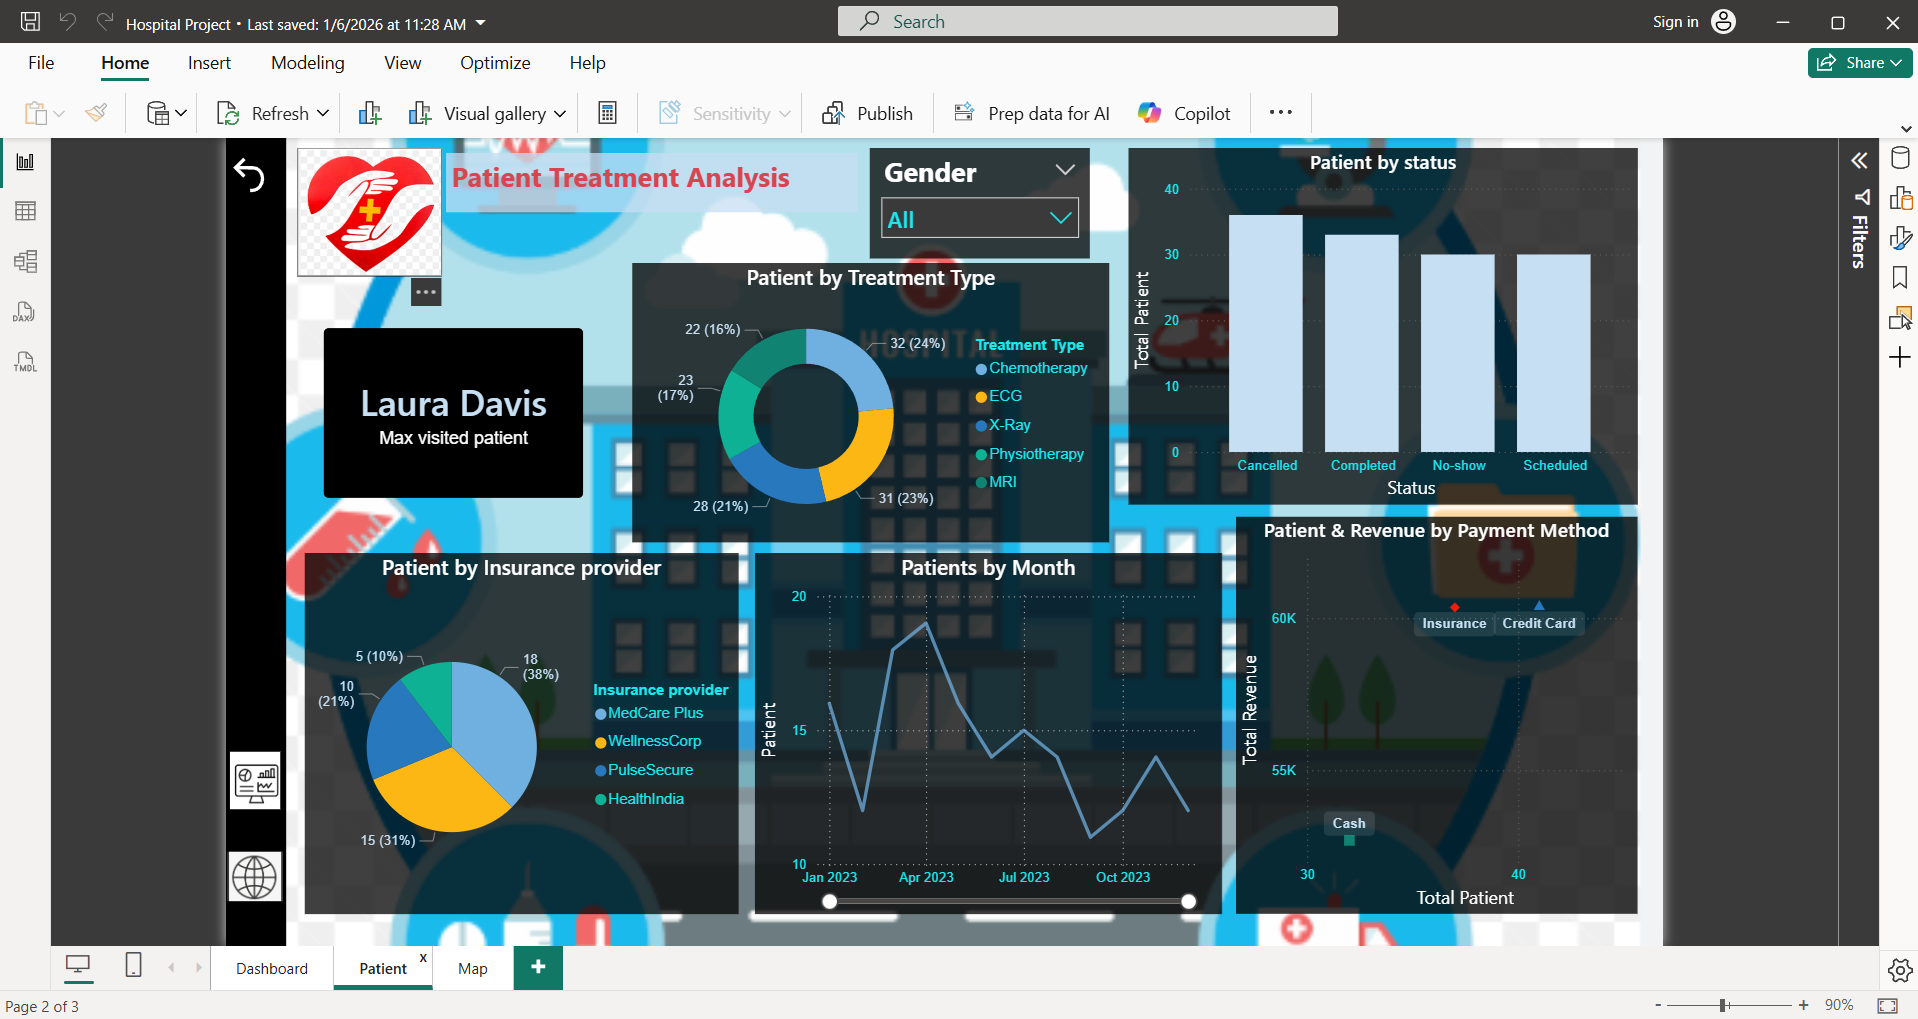

This screenshot's page, from the dashboard's own definition file:
{"tool":"powerbi","page":{"name":"Patient","canvas":[1280,720],"ordinal":1},"visuals":[{"type":"lineChart","title":"Patients by Month","fields":{"Category":["billing.bill_date Hierarchy.bill_date","billing.bill_date Hierarchy.Start of Month","billing.bill_date Hierarchy.Start of Week","billing.bill_date Hierarchy.Day Name"],"Y":["billing.Total Patient"]},"box":[471.2,370,416.2,321.2],"z":0},{"type":"textbox","box":[196.2,13.8,366.2,52.5],"z":1000},{"type":"pieChart","title":"Patient by Insurance provider","fields":{"Category":["patients.insurance_provider"],"Y":["billing.Total Patient"]},"box":[70,370,386.2,321.2],"z":2000},{"type":"slicer","fields":{"Values":["patients.gender"]},"box":[573.8,8.8,196.2,98.8],"z":3000},{"type":"clusteredColumnChart","title":"Patient by status","fields":{"Category":["appointments.status"],"Y":["billing.Total Patient"]},"box":[803.8,8.8,453.8,317.5],"z":4000},{"type":"donutChart","fields":{"Category":["treatments.treatment_type"],"Y":["billing.Total Patient"]},"box":[361.2,111.2,425,248.8],"z":5000},{"type":"scatterChart","title":"Patient & Revenue by Payment Method","fields":{"Category":["billing.payment_method"],"X":["billing.Total Patient"],"Y":["billing.Total revenue"]},"box":[900,337.5,357.5,353.8],"z":6000},{"type":"textbox","box":[0,0,53.8,720],"z":7000},{"type":"actionButton","box":[0,12.1,50.7,41],"z":8000},{"type":"image","box":[1.4,546.1,49.8,51.2],"z":9000},{"type":"image","box":[63.9,8.4,129.1,114.6],"z":9001},{"type":"cardVisual","fields":{"Data":["Min(patients.Patient name)"]},"box":[70,152.5,265,185],"z":9002},{"type":"image","box":[1.4,635.7,49.8,44.1],"z":9003}]}

Visuals, with their boxes on the page's 1280x720 design canvas (x1, y1, x2, y2). These are canvas units, not pixel positions in the 1918x1019 screenshot, which may show the page scaled, cropped or inside an application window:
"Patients by Month" lineChart: region(471, 370, 887, 691)
textbox: region(196, 14, 562, 66)
"Patient by Insurance provider" pieChart: region(70, 370, 456, 691)
slicer - patients.gender: region(574, 9, 770, 108)
"Patient by status" clusteredColumnChart: region(804, 9, 1258, 326)
donutChart - treatments.treatment_type x billing.Total Patient: region(361, 111, 786, 360)
"Patient & Revenue by Payment Method" scatterChart: region(900, 338, 1258, 691)
textbox: region(0, 0, 54, 720)
actionButton: region(0, 12, 51, 53)
image: region(1, 546, 51, 597)
image: region(64, 8, 193, 123)
cardVisual - Min(patients.Patient name): region(70, 152, 335, 338)
image: region(1, 636, 51, 680)
